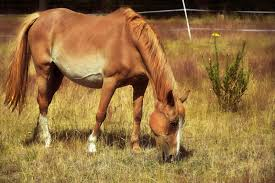Horse: (10, 19, 202, 165)
